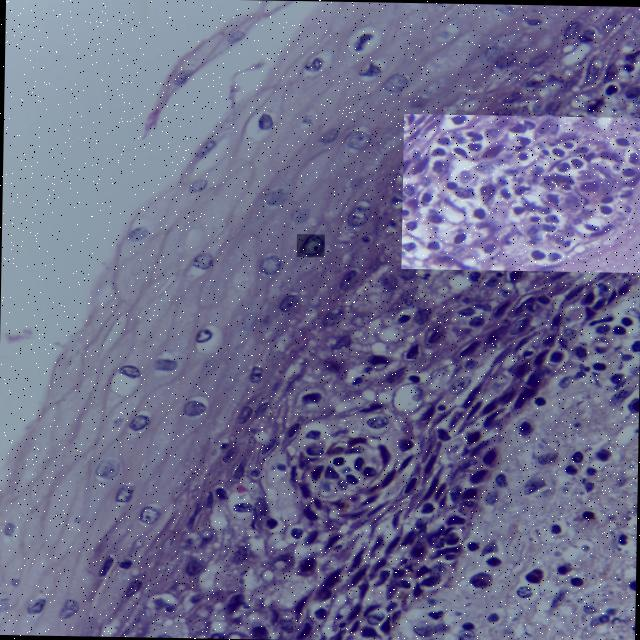Multiple Nucleol: (296, 233, 324, 256)
Nuclear Hyperchromatism: (403, 113, 640, 270)
